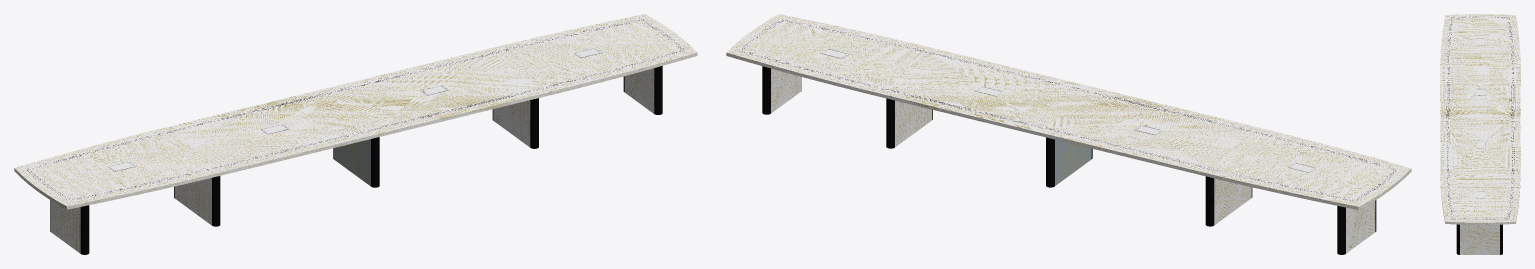
File: boardroomTable.fbx
The picture shows the model from 3 angles, left to right: view 1: azimuth 30°, elevation 25°; view 2: azimuth 150°, elevation 25°; view 3: azimuth 270°, elevation 25°; orthographic projection. The views are drawn at different scales.
Parts seen in each view (by area): view 1: Group5, Group2, Group3, Group4, Group6, Group7; view 2: Group2, Group5, Group3, Group4, Group6, Group7; view 3: Group2, Group5, Group4, Group3, Group6, Group7, Group13, Group12, Group10, Group11.
Part boxes in pixels (bbox=[...]): Group5: bbox=[326, 49, 545, 135]; Group2: bbox=[167, 88, 385, 173]; Group3: bbox=[14, 127, 226, 209]; Group4: bbox=[485, 14, 697, 96]; Group6: bbox=[51, 68, 654, 253]; Group7: bbox=[50, 66, 662, 254]; Group2: bbox=[1039, 88, 1258, 174]; Group5: bbox=[879, 49, 1098, 135]; Group3: bbox=[1198, 127, 1411, 209]; Group4: bbox=[726, 14, 938, 96]; Group6: bbox=[771, 68, 1375, 253]; Group7: bbox=[762, 66, 1376, 254]; Group2: bbox=[1440, 66, 1520, 118]; Group5: bbox=[1440, 118, 1520, 170]; Group4: bbox=[1440, 170, 1520, 224]; Group3: bbox=[1440, 14, 1520, 66]; Group6: bbox=[1460, 224, 1499, 254]; Group7: bbox=[1456, 224, 1502, 254]; Group13: bbox=[1476, 190, 1485, 198]; Group12: bbox=[1476, 140, 1485, 148]; Group10: bbox=[1476, 88, 1485, 95]; Group11: bbox=[1476, 38, 1485, 45].
Size of the model in its own units: 8000 by 745 by 1300.
